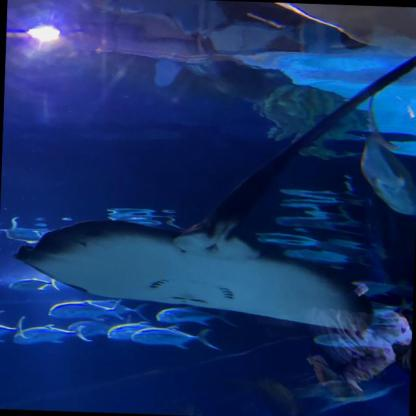fish: (359, 93, 415, 216), (130, 325, 224, 350), (13, 322, 93, 348), (156, 303, 240, 327), (48, 297, 122, 321), (90, 298, 152, 322), (107, 320, 158, 342), (0, 315, 30, 343), (8, 276, 60, 291)
stingray: (13, 215, 376, 332)
